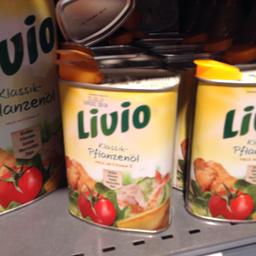oil: (54, 54, 180, 231), (185, 58, 255, 220)
